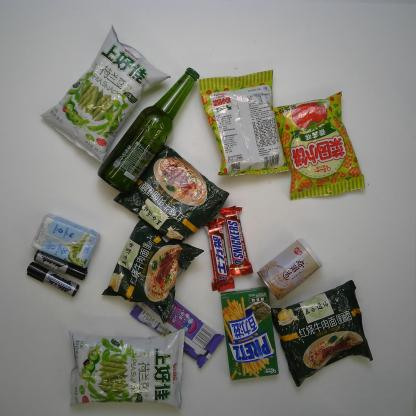Alcohol: (97, 68, 199, 192)
Candy: (128, 280, 224, 368)
Canned Food: (256, 237, 323, 300)
Chocolate: (202, 216, 236, 291), (219, 205, 253, 276)
Dessert: (220, 287, 280, 379)
Instant Noodles: (113, 142, 229, 242), (102, 215, 204, 323), (269, 280, 373, 385)
Milk: (31, 214, 100, 268)
Puffed Food: (39, 26, 171, 162), (272, 91, 368, 201), (198, 71, 292, 175), (67, 328, 186, 409)
Stationery: (26, 262, 80, 296), (34, 249, 87, 280)
